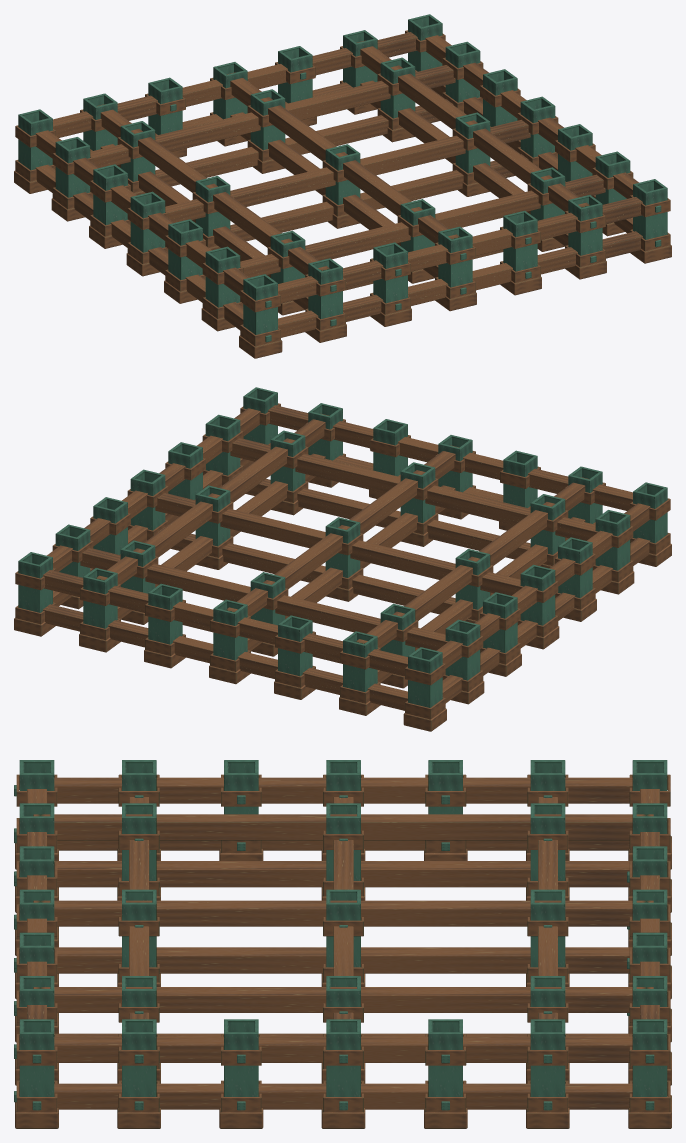
3 views of the same model, one above another, from view 1: azimuth 30°, elevation 25°; view 2: azimuth 150°, elevation 25°; view 3: azimuth 270°, elevation 25° (orthographic). The views are drawn at different scales.
Parts seen in each view (by area): view 1: Tier 0 internal tie 0-0.56-0-0.75, Tier 0 internal tie 0-0-0-0.75, Tier 0 internal tie 0--0.56-0-0.75, Tier 0 tie 0-0-0.75, Tier 0 tie 0-0-0.25, Tier 0 tie 2-0-0.75, Tier 0 internal tie 1--0.56-0-0.75, Tier 0 internal tie 1-0.56-0-0.75, Tier 0 internal tie 1-0-0-0.75, Tier 0 internal tie 0-0.56-0-0.25, Tier 0 internal tie 0-0-0-0.25, Tier 0 tie 3-0-0.75 (+41 smaller); view 2: Tier 0 internal tie 0--0.56-0-0.75, Tier 0 internal tie 0-0-0-0.75, Tier 0 internal tie 0-0.56-0-0.75, Tier 0 tie 2-0-0.75, Tier 0 tie 2-0-0.25, Tier 0 tie 0-0-0.75, Tier 0 internal tie 1--0.56-0-0.75, Tier 0 internal tie 1-0.56-0-0.75, Tier 0 internal tie 1-0-0-0.75, Tier 0 internal tie 0--0.56-0-0.25, Tier 0 internal tie 0-0-0-0.25, Tier 0 tie 3-0-0.75 (+42 smaller); view 3: Tier 0 internal tie 1-0-0-0.75, Tier 0 internal tie 1--0.56-0-0.75, Tier 0 internal tie 1-0-0-0.25, Tier 0 internal tie 1--0.56-0-0.25, Tier 0 internal tie 1-0.56-0-0.75, Tier 0 tie 1-0-0.75, Tier 0 tie 3-0-0.75, Tier 0 tie 1-0-0.25, Tier 0 tie 3-0-0.25, Tier 0 internal tie 0-0-0-0.75, Tier 0 internal tie 0--0.56-0-0.75, Tier 0 upright 11 (+59 smaller).
Boxes of the visible parts, box(x1,y1,x2,y2) form: Tier 0 internal tie 0-0.56-0-0.75: box(90, 65, 455, 167); Tier 0 internal tie 0-0-0-0.75: box(165, 120, 530, 222); Tier 0 internal tie 0--0.56-0-0.75: box(240, 174, 605, 277); Tier 0 tie 0-0-0.75: box(278, 197, 642, 303); Tier 0 tie 0-0-0.25: box(278, 231, 642, 337); Tier 0 tie 2-0-0.75: box(53, 32, 417, 137); Tier 0 internal tie 1--0.56-0-0.75: box(97, 104, 330, 274); Tier 0 internal tie 1-0.56-0-0.75: box(357, 40, 590, 211); Tier 0 internal tie 1-0-0-0.75: box(227, 72, 460, 243); Tier 0 internal tie 0-0.56-0-0.25: box(155, 99, 453, 186); Tier 0 internal tie 0-0-0-0.25: box(230, 154, 528, 241); Tier 0 tie 3-0-0.75: box(35, 130, 249, 295); Tier 0 internal tie 0--0.56-0-0.75: box(230, 438, 595, 540); Tier 0 internal tie 0-0-0-0.75: box(155, 493, 520, 595); Tier 0 internal tie 0-0.56-0-0.75: box(80, 547, 445, 650); Tier 0 tie 2-0-0.75: box(43, 570, 407, 676); Tier 0 tie 2-0-0.25: box(43, 604, 407, 710); Tier 0 tie 0-0-0.75: box(268, 405, 632, 510); Tier 0 internal tie 1--0.56-0-0.75: box(355, 477, 588, 647); Tier 0 internal tie 1-0.56-0-0.75: box(95, 413, 328, 584); Tier 0 internal tie 1-0-0-0.75: box(225, 445, 458, 616); Tier 0 internal tie 0--0.56-0-0.25: box(232, 472, 530, 559); Tier 0 internal tie 0-0-0-0.25: box(157, 527, 455, 614); Tier 0 tie 3-0-0.75: box(436, 503, 650, 668); Tier 0 internal tie 1-0-0-0.75: box(33, 900, 653, 926); Tier 0 internal tie 1--0.56-0-0.75: box(33, 814, 653, 840); Tier 0 internal tie 1-0-0-0.25: box(54, 947, 632, 973); Tier 0 internal tie 1--0.56-0-0.25: box(54, 861, 629, 887); Tier 0 internal tie 1-0.56-0-0.75: box(33, 987, 653, 1012); Tier 0 tie 1-0-0.75: box(54, 1036, 632, 1062); Tier 0 tie 3-0-0.75: box(54, 777, 632, 803); Tier 0 tie 1-0-0.25: box(54, 1083, 632, 1109); Tier 0 tie 3-0-0.25: box(57, 840, 629, 850); Tier 0 internal tie 0-0-0-0.75: box(333, 797, 353, 1019); Tier 0 internal tie 0--0.56-0-0.75: box(129, 797, 149, 1019); Tier 0 upright 11: box(530, 1019, 565, 1096).
Size of the model in its own units: 1.8 by 0.2834 by 1.8.
2 materials, 2 textured.
